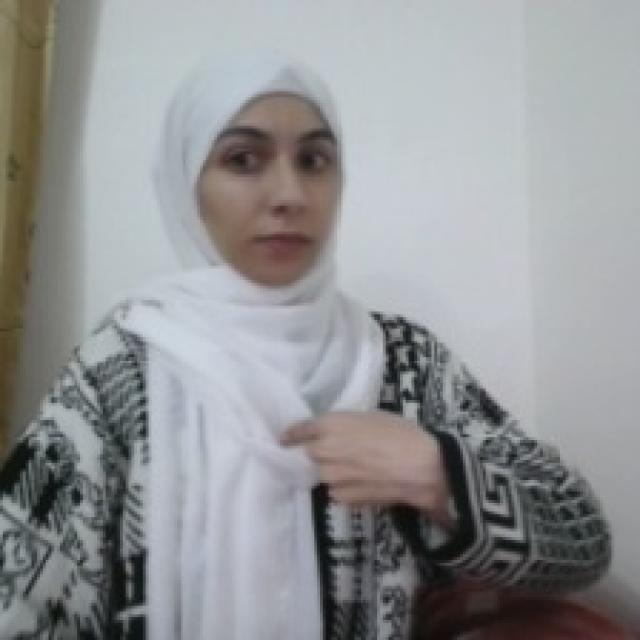me: (272, 404, 440, 516)
